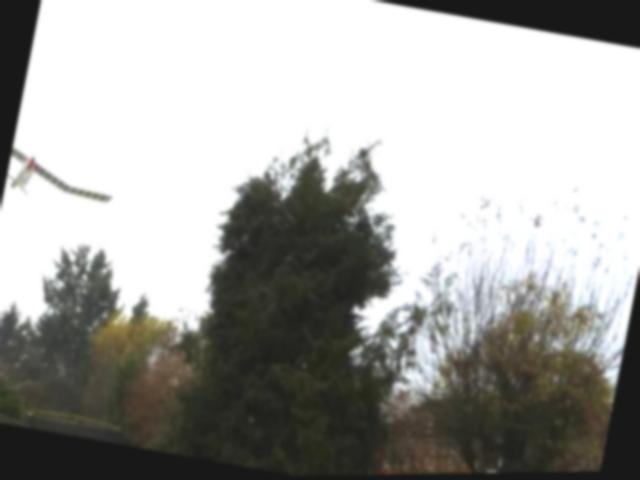uav: (1, 85, 136, 227)
